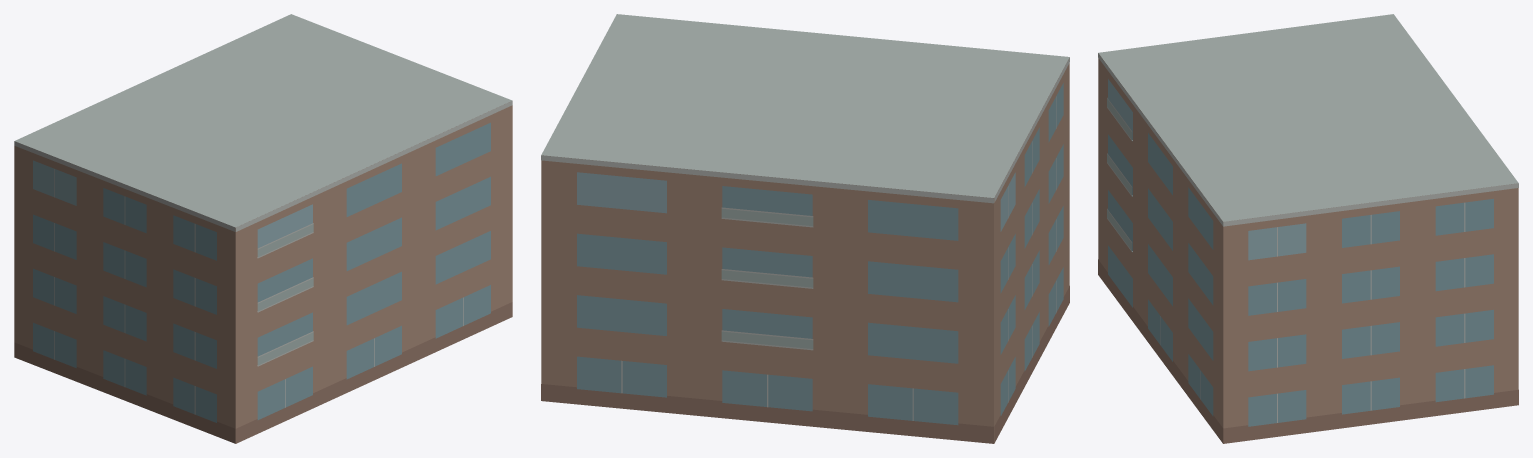
The model's file is survey-upis-32675908.glb.
3 views of the same model, side by side, from view 1: azimuth 30°, elevation 25°; view 2: azimuth 150°, elevation 25°; view 3: azimuth 270°, elevation 25° (orthographic). The views are drawn at different scales.
Parts seen in each view (by area): view 1: survey-upis-32675908.tmp; view 2: survey-upis-32675908.tmp; view 3: survey-upis-32675908.tmp.
Part boxes in pixels (box(x1,y1,x2,y2)): survey-upis-32675908.tmp: box(14, 14, 512, 443); survey-upis-32675908.tmp: box(541, 14, 1069, 443); survey-upis-32675908.tmp: box(1098, 14, 1518, 443).
Bounding box in the file's own units: 23.01 × 11.45 × 19.67.
